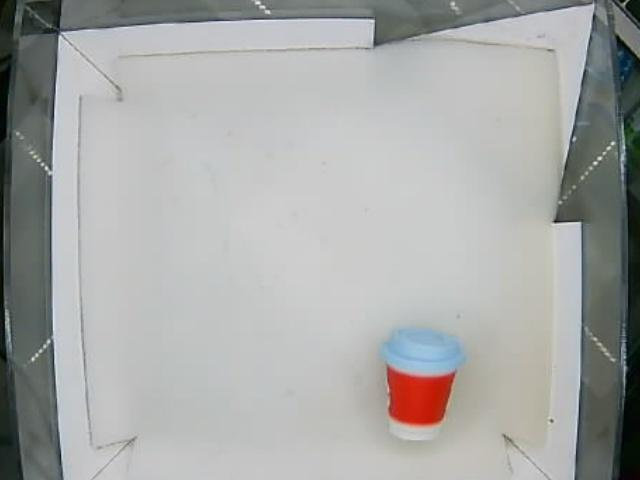Cup: (381, 325, 465, 443)
